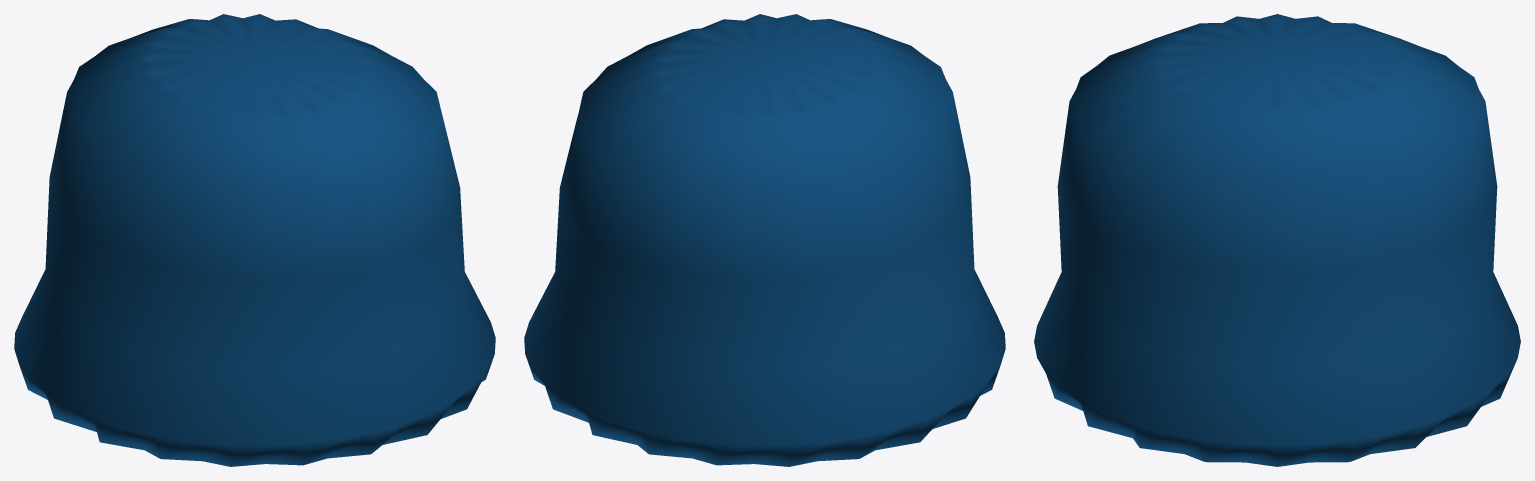
The model's file is Slime Body (updated).fbx.
3 views of the same model, side by side, from view 1: azimuth 30°, elevation 25°; view 2: azimuth 150°, elevation 25°; view 3: azimuth 270°, elevation 25° (orthographic).
Visible parts, largest first — view 1: Slime_Body; view 2: Slime_Body; view 3: Slime_Body.
Boxes of the visible parts, x1,y1,x2,y2 form: Slime_Body: (14,14,495,466); Slime_Body: (524,14,1005,466); Slime_Body: (1034,14,1520,466).
Size of the model in its own units: 44.9 by 34.22 by 44.9.
